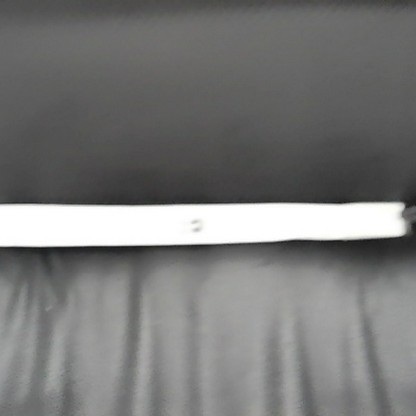ironball: (186, 215, 203, 232)
